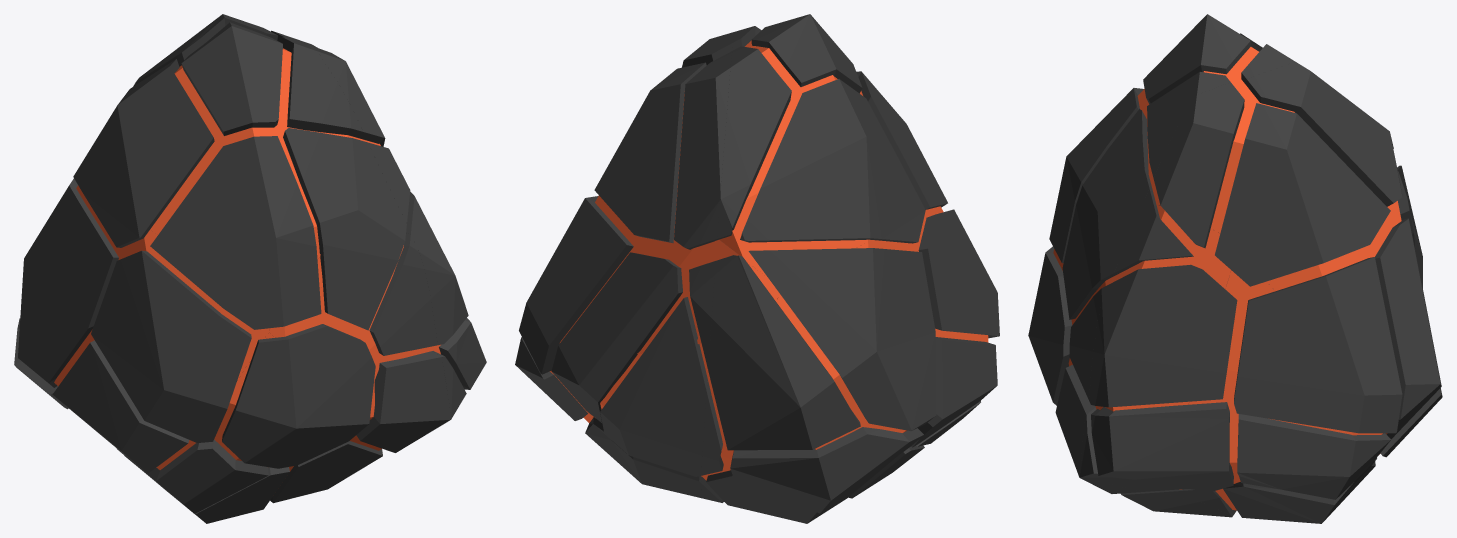
The model's file is MeteoBreak.fbx.
3 views of the same model, side by side, from view 1: azimuth 30°, elevation 25°; view 2: azimuth 150°, elevation 25°; view 3: azimuth 270°, elevation 25° (orthographic).
Visible parts, largest first — view 1: Meteo.001_cell.074, Meteo.001_cell.072, Meteo.001_cell.078, Meteo.001_cell.070, Meteo.001_cell.069, Meteo.001_cell.071, Meteo.001_cell.077, Meteo.001_cell.064, Meteo.001_cell.066, Meteo.001_cell.076, Meteo.001_cell.081, Meteo.001_cell.067 (+13 smaller); view 2: Meteo.001_cell.071, Meteo.001_cell.069, Meteo.001_cell.068, Meteo.001_cell.062, Meteo.001_cell.057, Meteo.001_cell.053, Meteo.001_cell.056, Meteo.001_cell.073, Meteo.001_cell.060, Meteo.001_cell.075, Meteo.001_cell.072, Meteo.001_cell.064 (+13 smaller); view 3: Meteo.001_cell.056, Meteo.001_cell.053, Meteo.001_cell.061, Meteo.001_cell.049, Meteo.001_cell.070, Meteo.001_cell.059, Meteo.001_cell.054, Meteo.001_cell.060, Meteo.001_cell.057, Meteo.001_cell.077, Meteo.001_cell.078, Meteo.001_cell.074 (+15 smaller).
Boxes of the visible parts, <box> form: Meteo.001_cell.074: <box>150,136,321,329</box>; Meteo.001_cell.072: <box>91,250,251,442</box>; Meteo.001_cell.078: <box>222,324,375,468</box>; Meteo.001_cell.070: <box>283,128,406,330</box>; Meteo.001_cell.069: <box>73,59,214,247</box>; Meteo.001_cell.071: <box>18,178,118,387</box>; Meteo.001_cell.077: <box>181,22,282,135</box>; Meteo.001_cell.064: <box>52,340,189,473</box>; Meteo.001_cell.066: <box>356,351,451,452</box>; Meteo.001_cell.076: <box>369,233,437,355</box>; Meteo.001_cell.081: <box>124,439,268,513</box>; Meteo.001_cell.067: <box>281,37,363,138</box>; Meteo.001_cell.071: <box>748,248,936,430</box>; Meteo.001_cell.069: <box>740,79,925,243</box>; Meteo.001_cell.068: <box>708,255,860,450</box>; Meteo.001_cell.062: <box>600,297,707,476</box>; Meteo.001_cell.057: <box>551,252,682,422</box>; Meteo.001_cell.053: <box>594,62,706,243</box>; Meteo.001_cell.056: <box>519,196,633,374</box>; Meteo.001_cell.073: <box>730,427,923,513</box>; Meteo.001_cell.060: <box>674,51,732,249</box>; Meteo.001_cell.075: <box>717,46,791,239</box>; Meteo.001_cell.072: <box>918,209,999,338</box>; Meteo.001_cell.064: <box>911,337,997,447</box>; Meteo.001_cell.056: <box>1234,257,1402,433</box>; Meteo.001_cell.053: <box>1215,103,1390,286</box>; Meteo.001_cell.061: <box>1089,264,1237,407</box>; Meteo.001_cell.049: <box>1091,402,1233,491</box>; Meteo.001_cell.070: <box>1062,109,1153,319</box>; Meteo.001_cell.059: <box>1237,414,1391,499</box>; Meteo.001_cell.054: <box>1153,82,1244,248</box>; Meteo.001_cell.060: <box>1246,62,1402,206</box>; Meteo.001_cell.057: <box>1375,218,1441,439</box>; Meteo.001_cell.077: <box>1143,14,1259,104</box>; Meteo.001_cell.078: <box>1028,246,1072,405</box>; Meteo.001_cell.074: <box>1049,88,1143,263</box>.
Bounding box in the file's own units: 1829 × 2128 × 1711.
